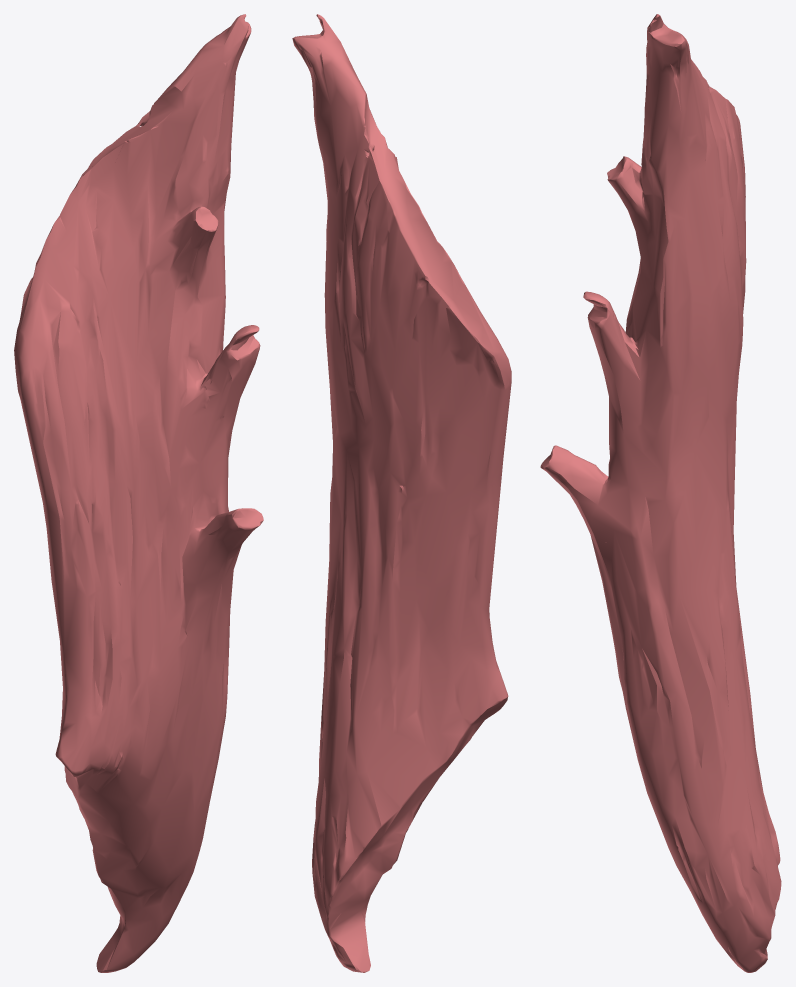
File: BP3D3_FMA22348.glb
3 views of the same model, side by side, from view 1: azimuth 30°, elevation 25°; view 2: azimuth 150°, elevation 25°; view 3: azimuth 270°, elevation 25° (orthographic). The views are drawn at different scales.
Parts seen in each view (by area): view 1: BP3D3_FMA22348; view 2: BP3D3_FMA22348; view 3: BP3D3_FMA22348.
Part boxes in pixels (bbox=[...]): BP3D3_FMA22348: bbox=[14, 14, 263, 972]; BP3D3_FMA22348: bbox=[292, 14, 511, 972]; BP3D3_FMA22348: bbox=[540, 14, 781, 972].
Size of the model in its own units: 0.0495 by 0.1988 by 0.0435.
